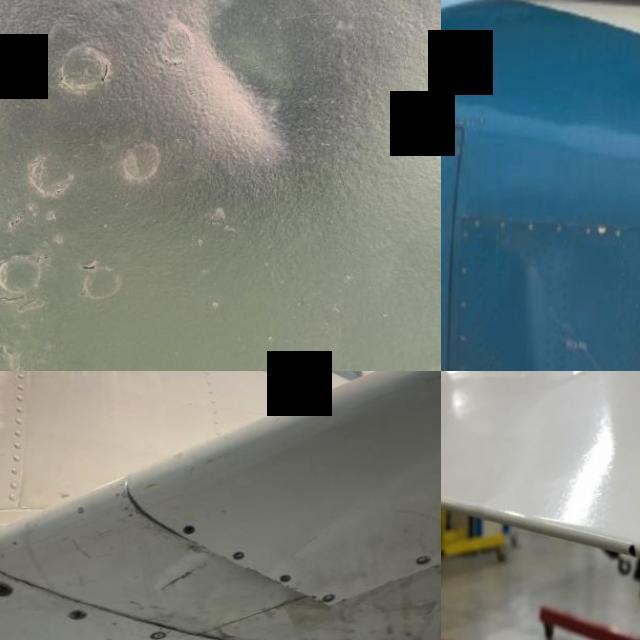Crack: (621, 497, 640, 576)
Dent: (80, 0, 352, 203), (502, 249, 564, 371)
Missing_Fastener: (68, 611, 88, 627), (0, 583, 12, 600), (181, 530, 197, 542), (231, 556, 246, 568), (414, 564, 430, 574), (279, 579, 292, 591), (322, 600, 334, 610)
